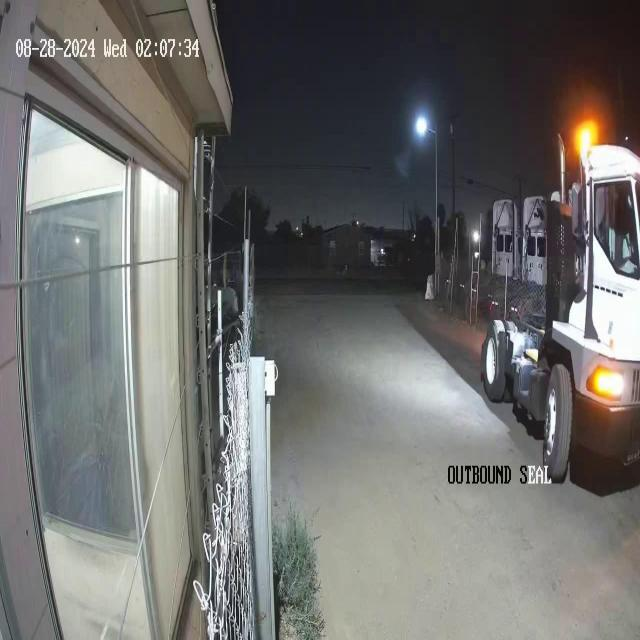TRUCK_IN: (480, 129, 639, 483)
